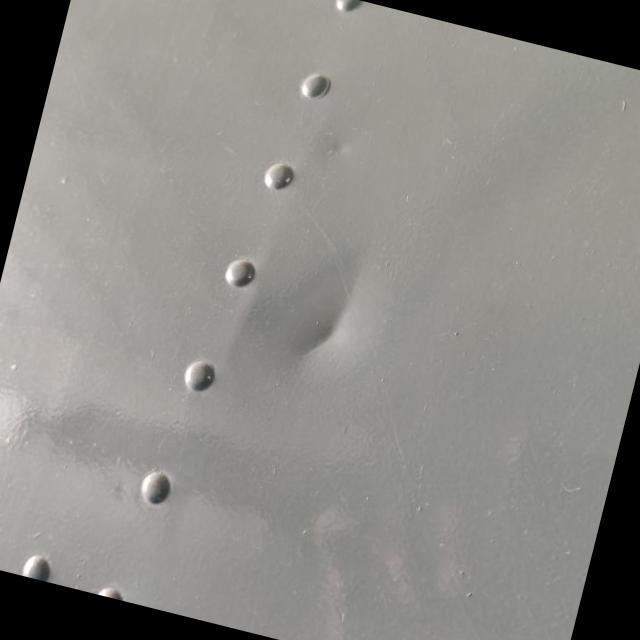Dent: (267, 255, 390, 399)
